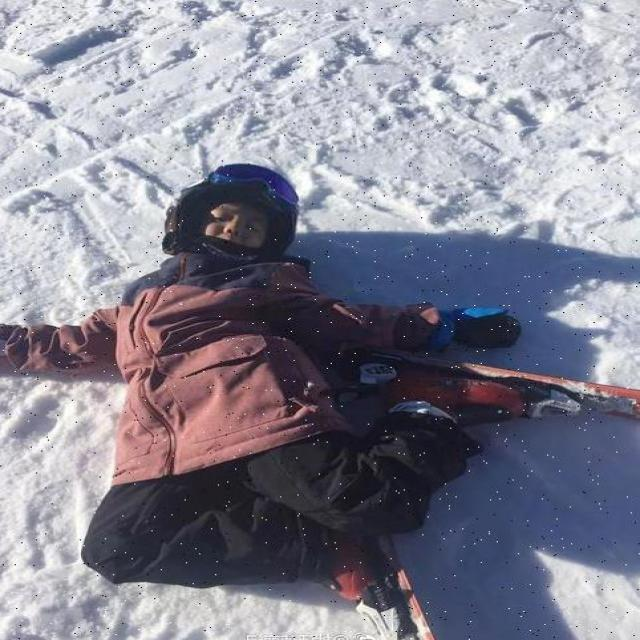fall: (47, 168, 484, 605)
